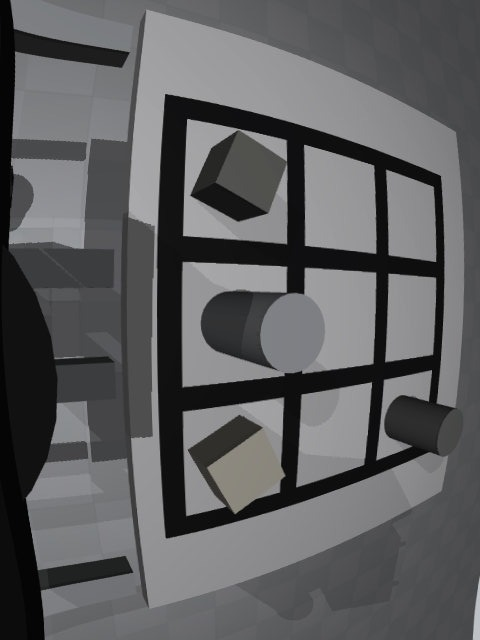can: (201, 292, 325, 373)
cube: (190, 130, 287, 221)
cylinder: (384, 395, 463, 457)
foam: (188, 415, 285, 514)
